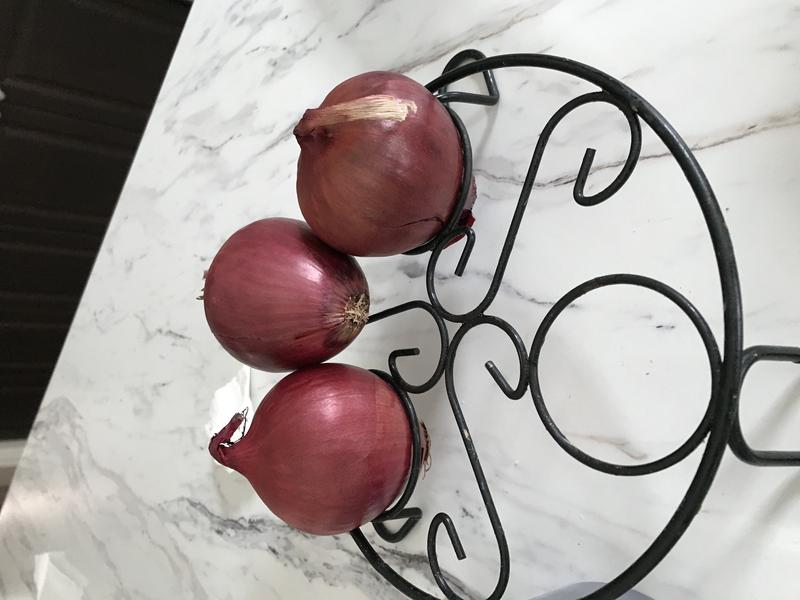purple_onion: (206, 355, 438, 546), (286, 67, 489, 260), (192, 210, 375, 380)
